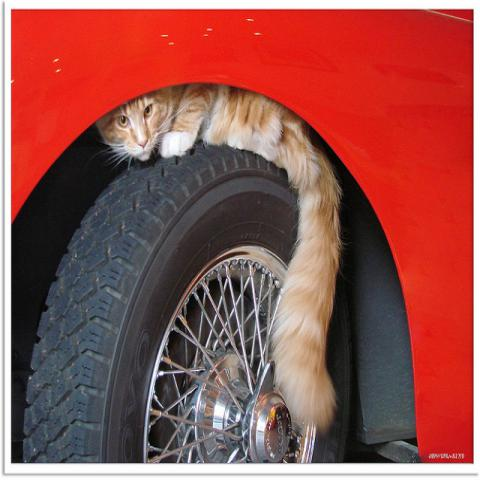car: (11, 10, 474, 464)
